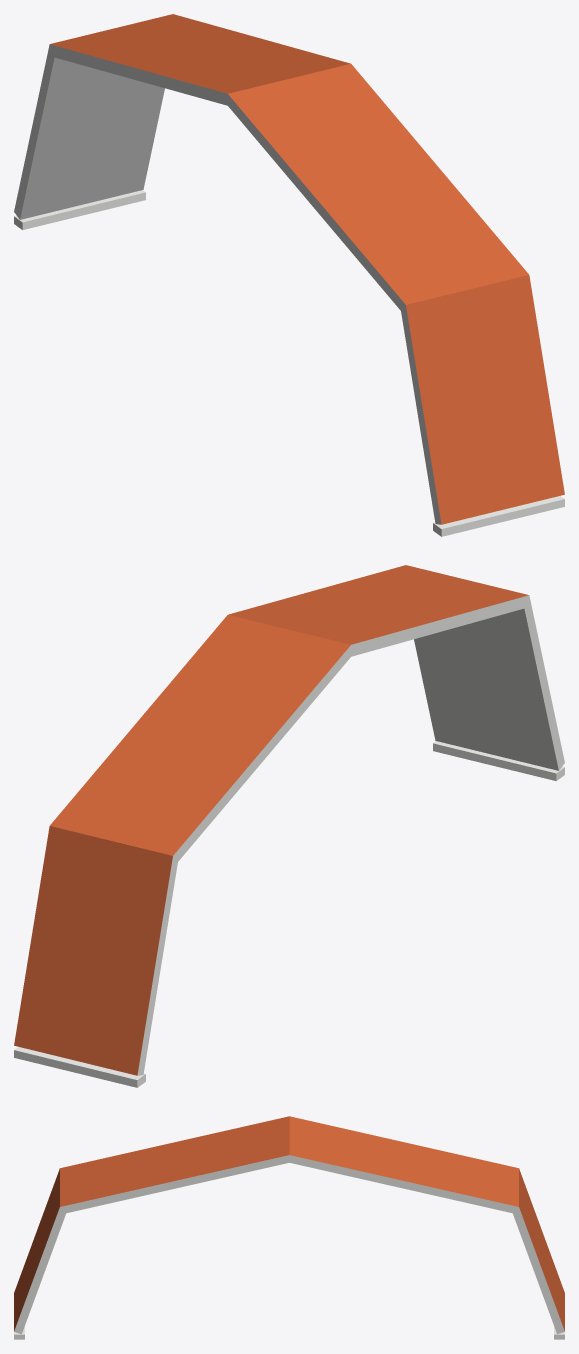
The model's file is telhado_mansarda_v6_1m.glb.
3 renders of one model, top to bottom at view 1: azimuth 30°, elevation 25°; view 2: azimuth 150°, elevation 25°; view 3: azimuth 270°, elevation 25°, orthographic. The views are drawn at different scales.
Visible parts, largest first — view 1: telhado_mansarda_v6_1m; view 2: telhado_mansarda_v6_1m; view 3: telhado_mansarda_v6_1m.
Boxes of the visible parts, x1,y1,x2,y2 form: telhado_mansarda_v6_1m: (14,14,564,536); telhado_mansarda_v6_1m: (14,565,564,1087); telhado_mansarda_v6_1m: (14,1116,564,1339).
Size of the model in its own units: 1 by 2.22 by 6.
